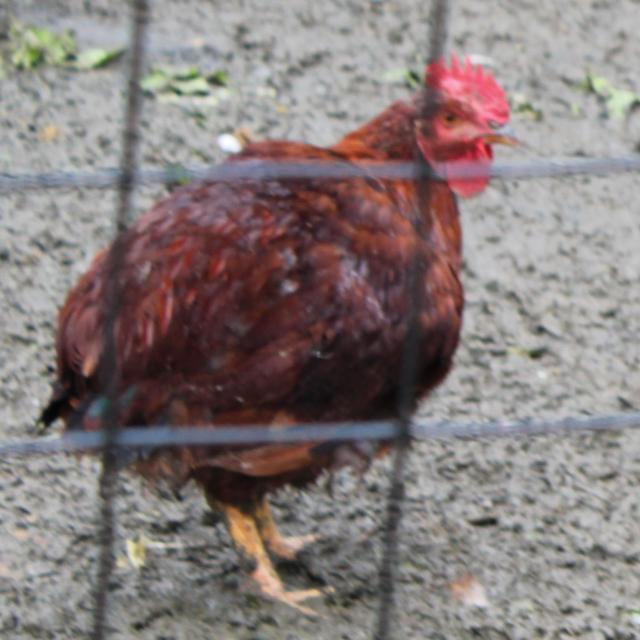cook: (113, 177, 491, 428), (106, 351, 389, 616), (227, 56, 513, 172), (40, 246, 113, 431)
